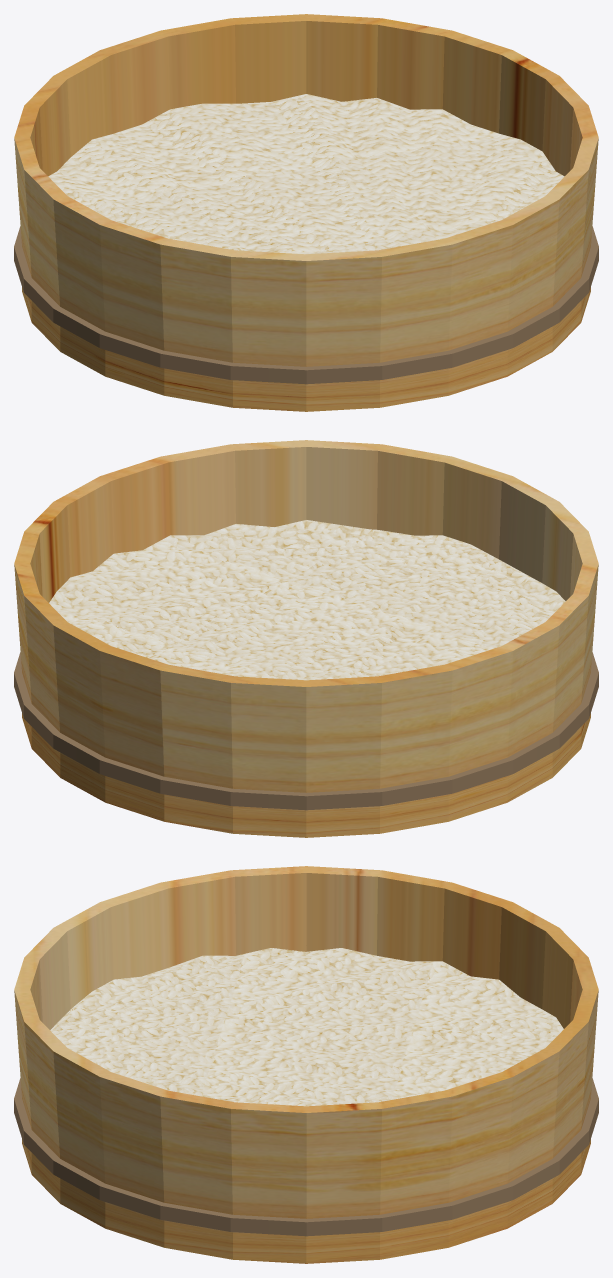
The model's file is sushi-oke(syari⚪︎).fbx.
The picture shows the model from 3 angles, top to bottom: view 1: azimuth 30°, elevation 25°; view 2: azimuth 150°, elevation 25°; view 3: azimuth 270°, elevation 25°; orthographic projection.
Parts seen in each view (by area): view 1: 円柱, 円柱.001; view 2: 円柱, 円柱.001; view 3: 円柱, 円柱.001.
Boxes of the visible parts, box(x1,y1,x2,y2) form: 円柱: box(14, 14, 598, 411); 円柱.001: box(48, 94, 564, 254); 円柱: box(14, 440, 598, 837); 円柱.001: box(49, 520, 565, 680); 円柱: box(14, 866, 598, 1263); 円柱.001: box(50, 948, 563, 1106).
Bounding box in the file's own units: 98.72 × 28.7 × 98.72.
